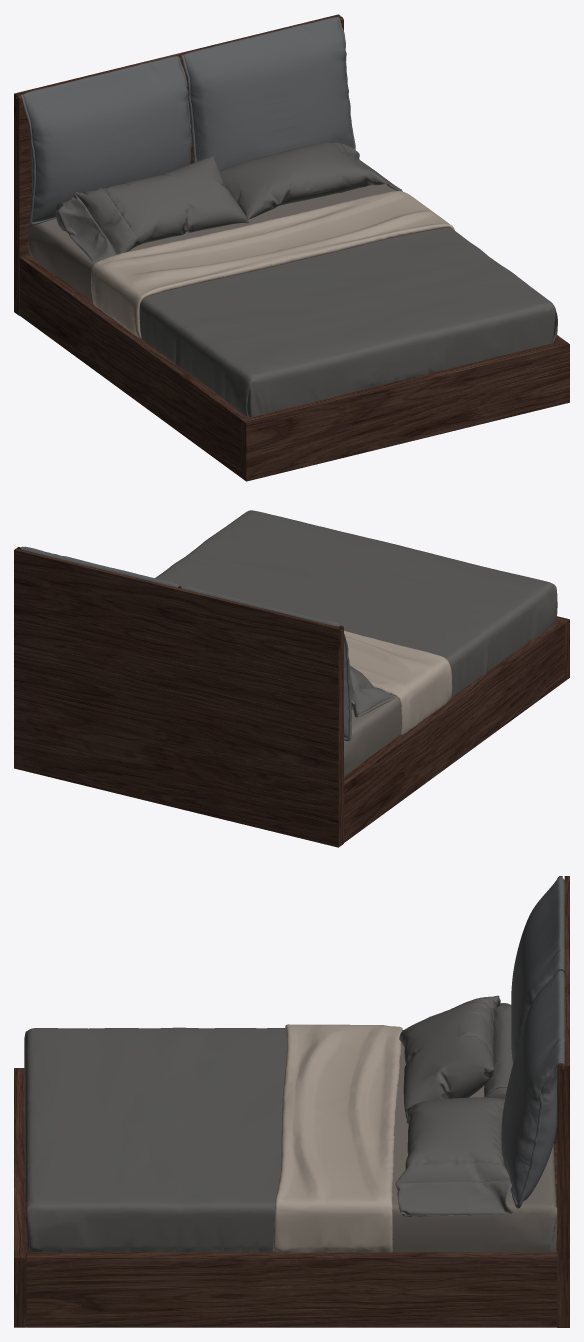
File: Bed_1.glb
The picture shows the model from 3 angles, top to bottom: view 1: azimuth 30°, elevation 25°; view 2: azimuth 150°, elevation 25°; view 3: azimuth 270°, elevation 25°; orthographic projection. The views are drawn at different scales.
Parts seen in each view (by area): view 1: Cloth, Wood, Leather; view 2: Wood, Cloth, Leather; view 3: Cloth, Wood, Leather.
Boxes of the visible parts, x1,y1,x2,y2 form: Cloth: (28,142,557,416); Wood: (14,14,569,481); Leather: (20,16,355,225); Wood: (14,547,569,847); Cloth: (155,510,557,775); Leather: (20,546,351,740); Cloth: (24,995,557,1252); Wood: (14,876,569,1327); Leather: (501,877,564,1208).
Bounding box in the file's own units: 171 × 111 × 212.
Materials: 3 (3 with a texture image).
